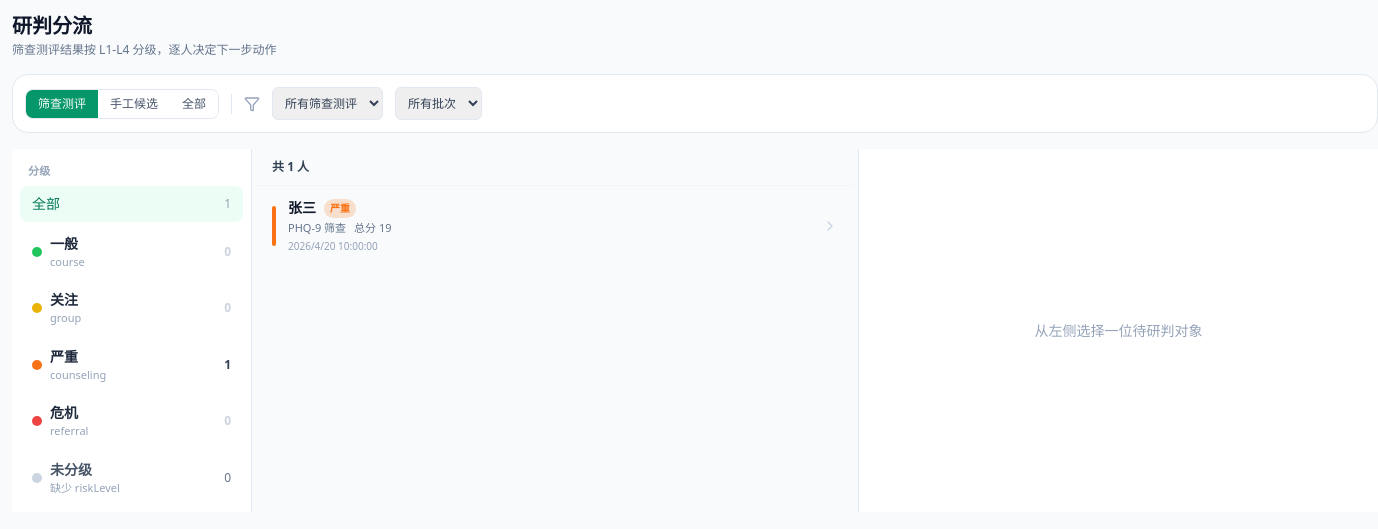
Test: ResearchTriagePage › lists a returned candidate and opens the detail panel on click
This screenshot has width=1378, height=529.
Click the text "张三": coordinates (302, 208) 288,198 -> 316,218
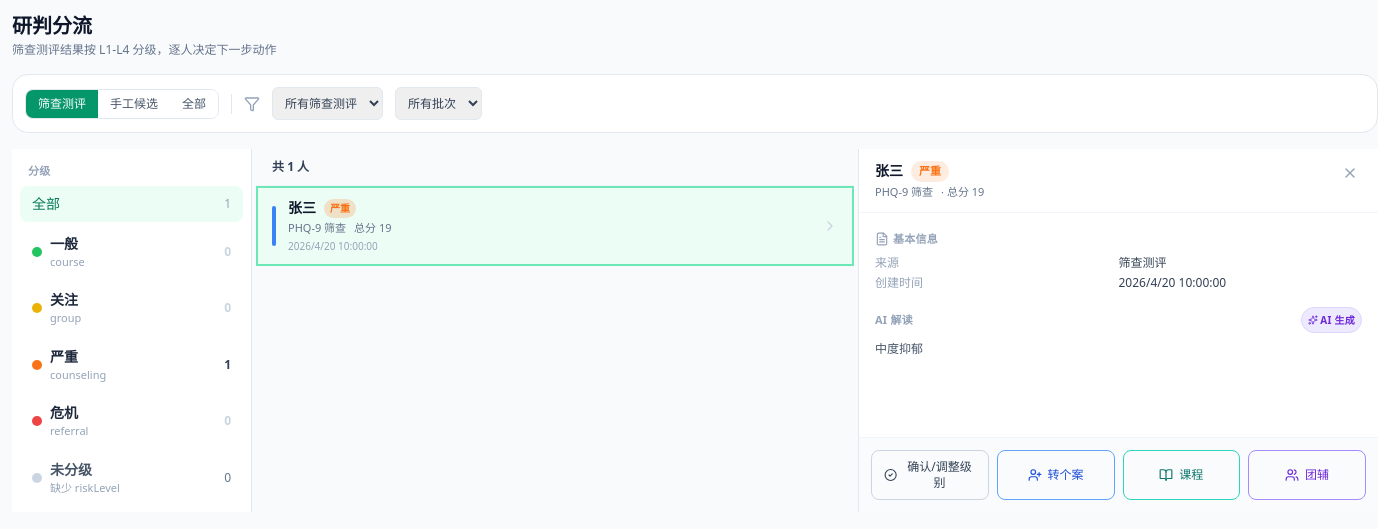
Result: the text "中度抑郁" is shown at 875,340 -> 923,357
